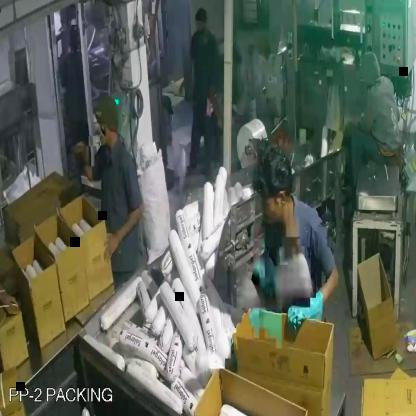glove: (278, 284, 334, 343)
no_glove: (98, 204, 152, 274), (72, 132, 106, 192)
